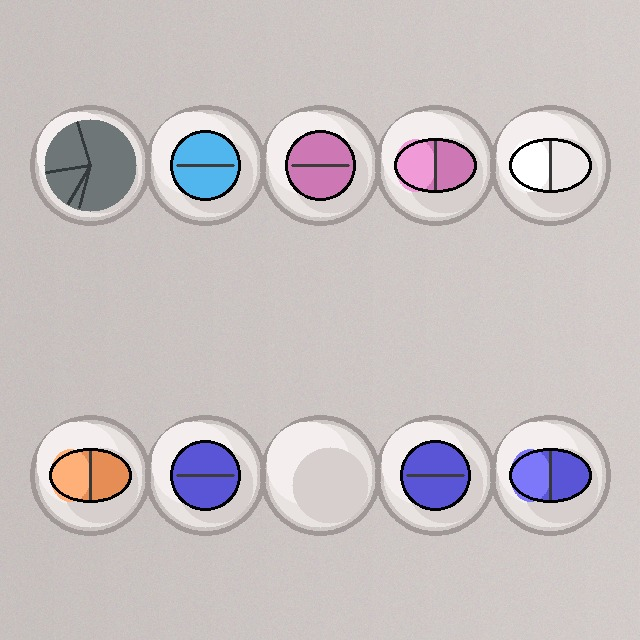empty: (28, 103, 152, 227)
missing: (258, 413, 382, 537)
